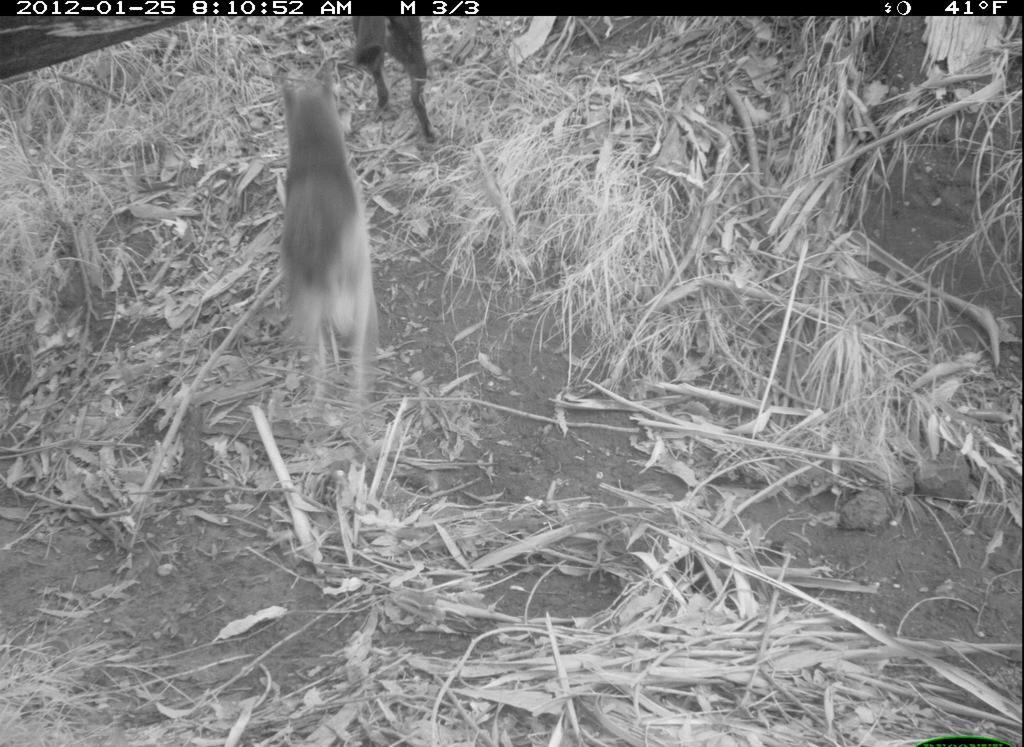dog: (264, 54, 382, 411), (344, 13, 455, 144)
